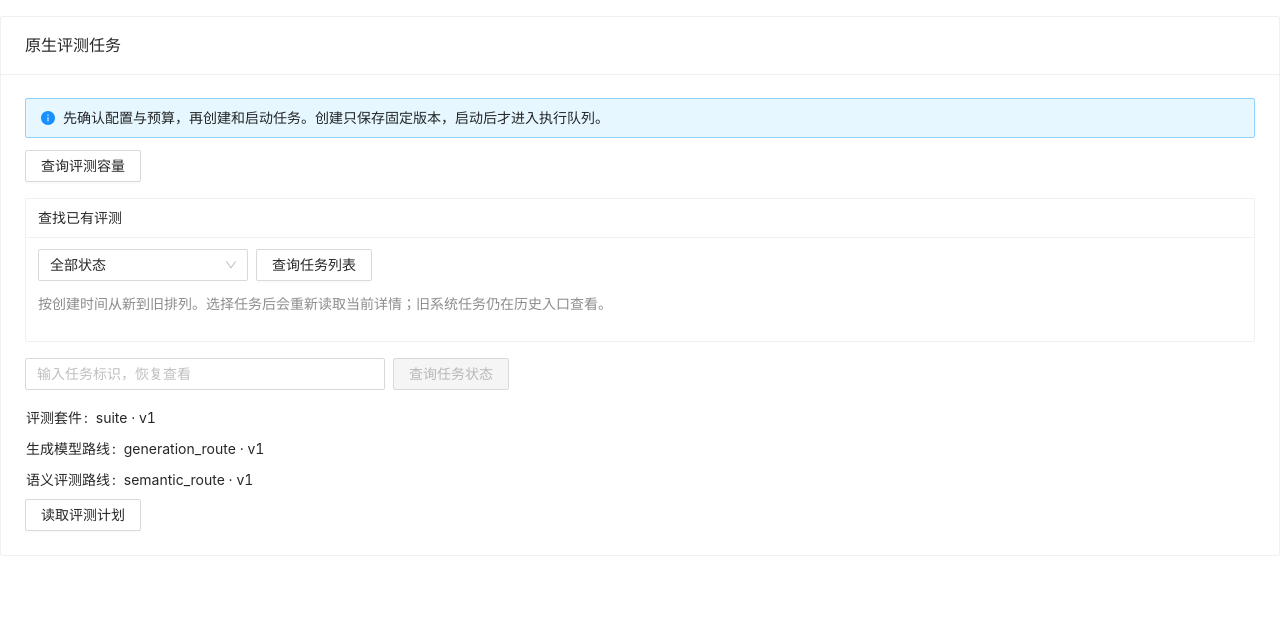
rejects invalid prepared plans: missing
Click the button "读取评测计划" at point(83, 515), box [25,499,141,531]
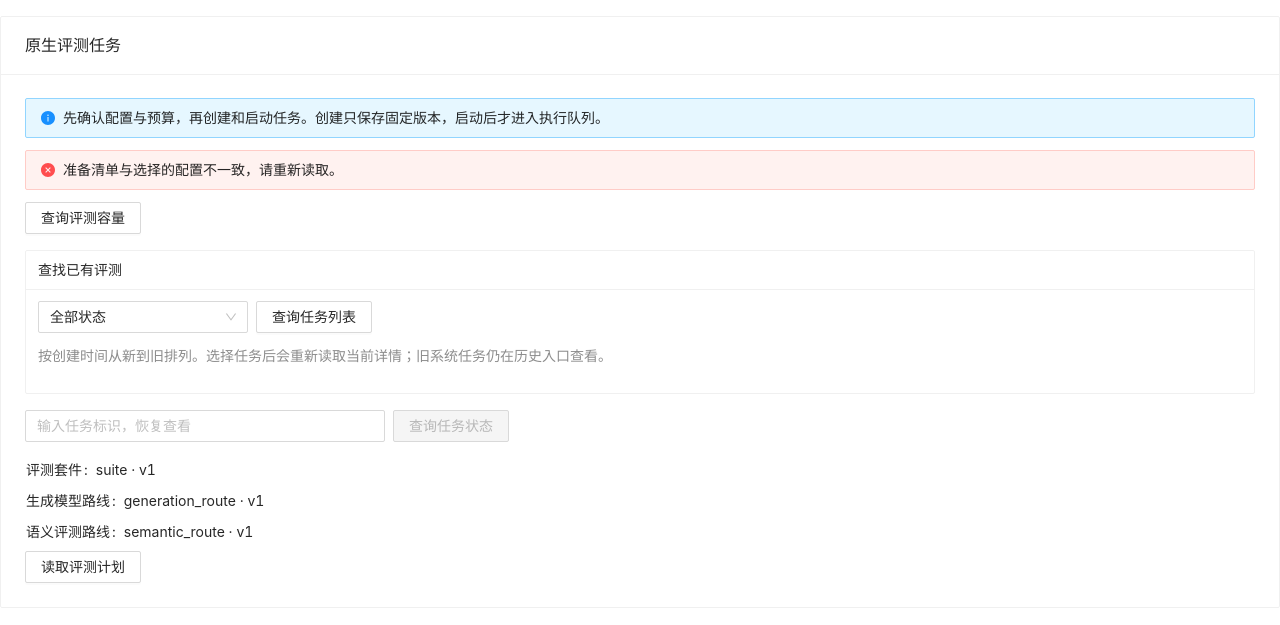
Now the text "准备清单与选择的配置不一致，请重新读取。" is shown, box [63,161,343,178]
